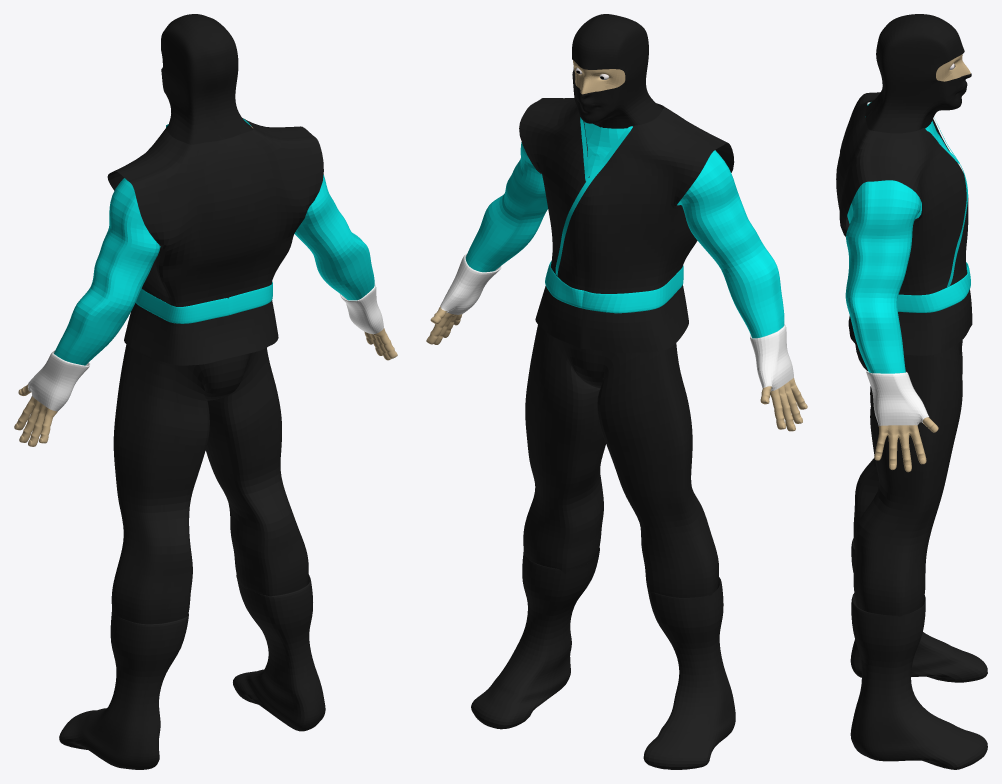
The model's file is Male Character Base (Clothed).fbx.
The picture shows the model from 3 angles, left to right: view 1: azimuth 30°, elevation 25°; view 2: azimuth 150°, elevation 25°; view 3: azimuth 270°, elevation 25°; orthographic projection.
Parts seen in each view (by area): view 1: Lower Clothing, Torso Outer Clothing, Footwear, Torso Clothing, Mask, Hand Wrap, Character; view 2: Lower Clothing, Torso Outer Clothing, Footwear, Torso Clothing, Mask, Hand Wrap, Character; view 3: Torso Outer Clothing, Lower Clothing, Footwear, Torso Clothing, Mask, Hand Wrap, Character.
Boxes of the visible parts, <box> form: Lower Clothing: <box>111,344,308,624</box>; Torso Outer Clothing: <box>107,118,323,365</box>; Footwear: <box>59,574,325,769</box>; Torso Clothing: <box>54,118,374,365</box>; Mask: <box>161,14,253,144</box>; Hand Wrap: <box>28,283,383,411</box>; Character: <box>14,126,397,446</box>; Lower Clothing: <box>523,325,718,597</box>; Torso Outer Clothing: <box>519,98,734,352</box>; Footwear: <box>471,547,735,769</box>; Torso Clothing: <box>465,121,784,338</box>; Mask: <box>572,14,662,128</box>; Hand Wrap: <box>440,253,793,391</box>; Character: <box>426,60,807,431</box>; Torso Outer Clothing: <box>836,92,972,355</box>; Lower Clothing: <box>853,340,962,616</box>; Footwear: <box>850,538,987,769</box>; Torso Clothing: <box>845,102,947,373</box>; Mask: <box>865,14,971,133</box>; Hand Wrap: <box>866,371,929,425</box>; Character: <box>874,54,970,472</box>.
Size of the model in its own units: 937 by 1747 by 343.
